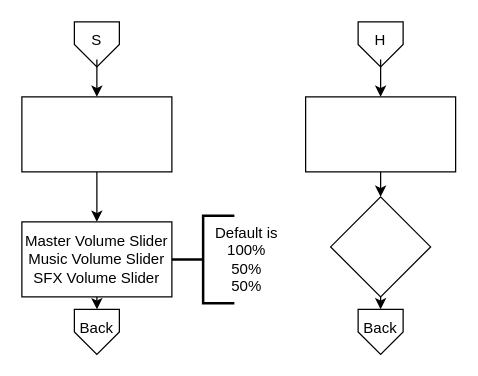
Image size: 478x376. Some labels were removed from this diagram. Each missing label, with the centre of its shape:
"Close Dialog" belongs at pixel 380 246.
"Display Dialog Box Displaying Player Controls" belongs at pixel 380 134.
"Settings Screen" belongs at pixel 96 134.
